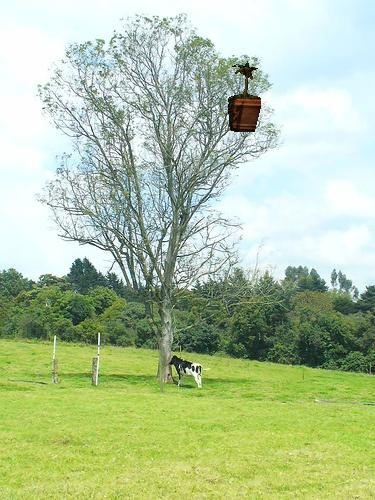tampered: (229, 62, 261, 132)
